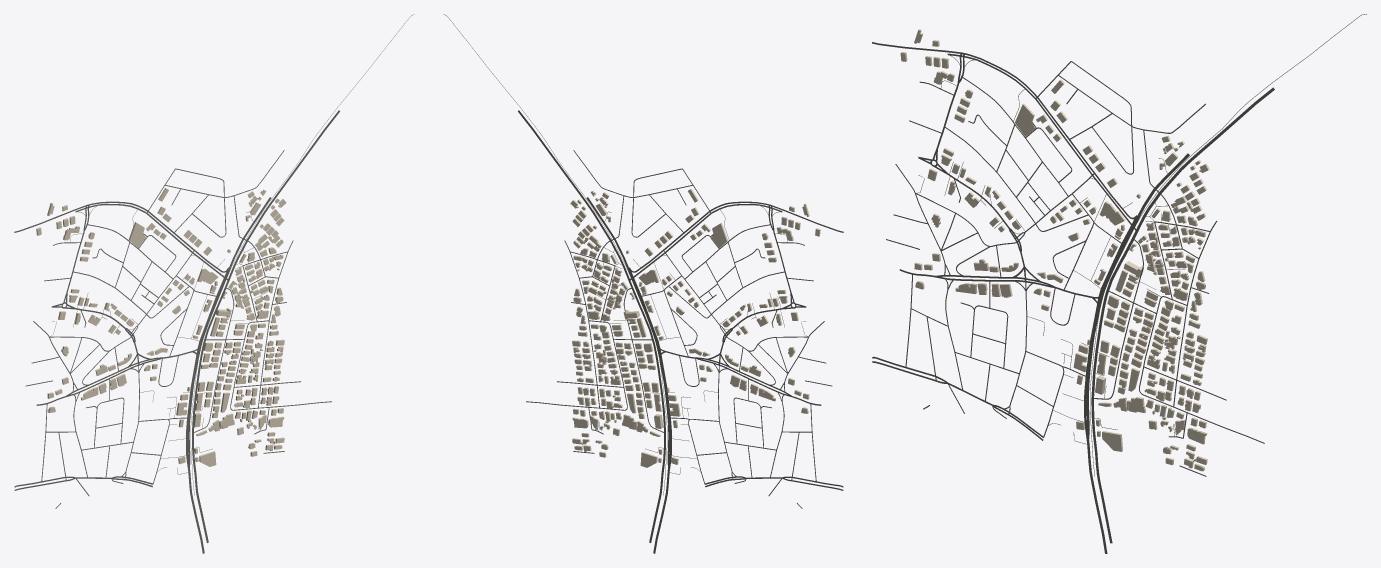
Rendered from amman_3588_3197.glb.
3 renders of one model, left to right at view 1: azimuth 30°, elevation 25°; view 2: azimuth 150°, elevation 25°; view 3: azimuth 330°, elevation 25°, orthographic. The views are drawn at different scales.
Visible parts, largest first — view 1: Road شارع الشريف ناصر بن جميل.002, Road شارع الشريف ناصر بن جميل.001; view 2: Road شارع الشريف ناصر بن جميل.002, Road شارع الشريف ناصر بن جميل.001; view 3: Road شارع الشريف ناصر بن جميل.002, Road شارع الشريف ناصر بن جميل.001, Road شارع الشريف ناصر بن جميل.004, Road شارع عمر بن عبد العزيز, Road شارع الشريف ناصر بن جميل.
Boxes of the visible parts, bbox=[...] form: Road شارع الشريف ناصر بن جميل.002: bbox=[192, 312, 215, 542]; Road شارع الشريف ناصر بن جميل.001: bbox=[185, 351, 204, 553]; Road شارع الشريف ناصر بن جميل.002: bbox=[642, 312, 665, 542]; Road شارع الشريف ناصر بن جميل.001: bbox=[653, 351, 672, 553]; Road شارع الشريف ناصر بن جميل.002: bbox=[1091, 262, 1120, 543]; Road شارع الشريف ناصر بن جميل.001: bbox=[1084, 300, 1107, 553]; Road شارع الشريف ناصر بن جميل.004: bbox=[1086, 184, 1159, 399]; Road شارع عمر بن عبد العزيز: bbox=[872, 42, 1128, 216]; Road شارع الشريف ناصر بن جميل: bbox=[1137, 87, 1274, 228].
Bounding box in the file's own units: 1563 × 1821 × 20.19.
